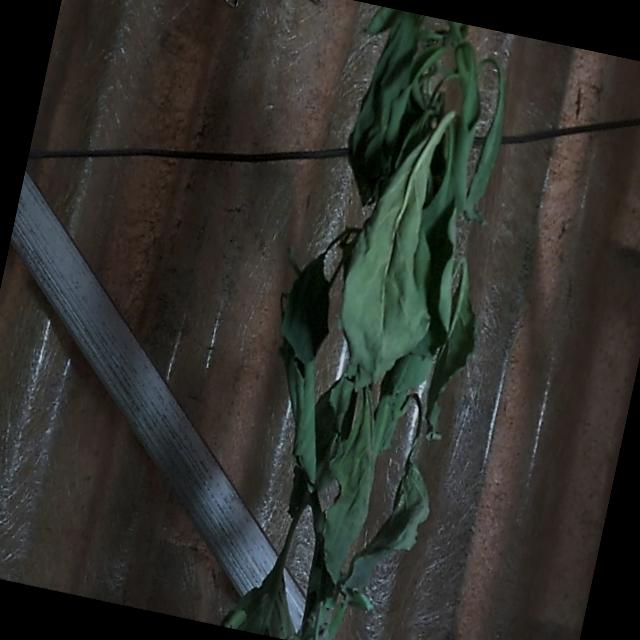Leaf: (322, 131, 468, 398), (276, 246, 346, 368)
